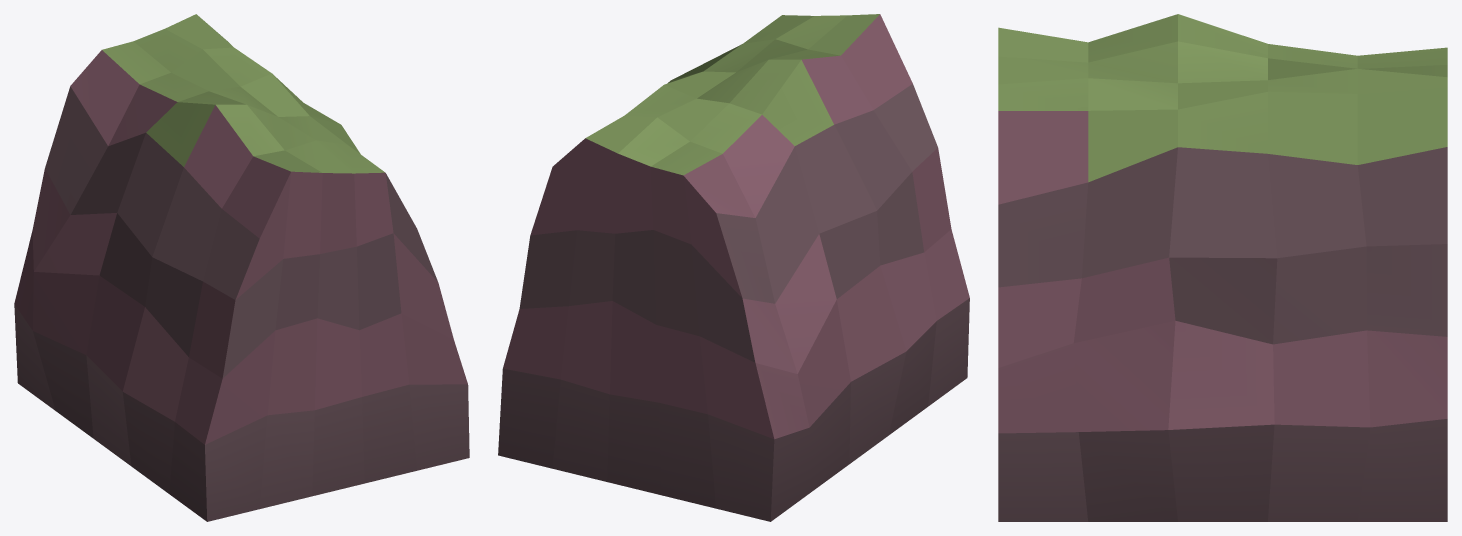
File: roca_recta_3.glb
The picture shows the model from 3 angles, left to right: view 1: azimuth 30°, elevation 25°; view 2: azimuth 150°, elevation 25°; view 3: azimuth 270°, elevation 25°; orthographic projection. The views are drawn at different scales.
Visible parts, largest first — view 1: propforge-cuartos-roca_recta; view 2: propforge-cuartos-roca_recta; view 3: propforge-cuartos-roca_recta.
Boxes of the visible parts, bbox=[...] form: propforge-cuartos-roca_recta: bbox=[14, 14, 469, 521]; propforge-cuartos-roca_recta: bbox=[498, 14, 969, 521]; propforge-cuartos-roca_recta: bbox=[998, 14, 1447, 521].
Size of the model in its own units: 0.8773 by 0.9943 by 1.
